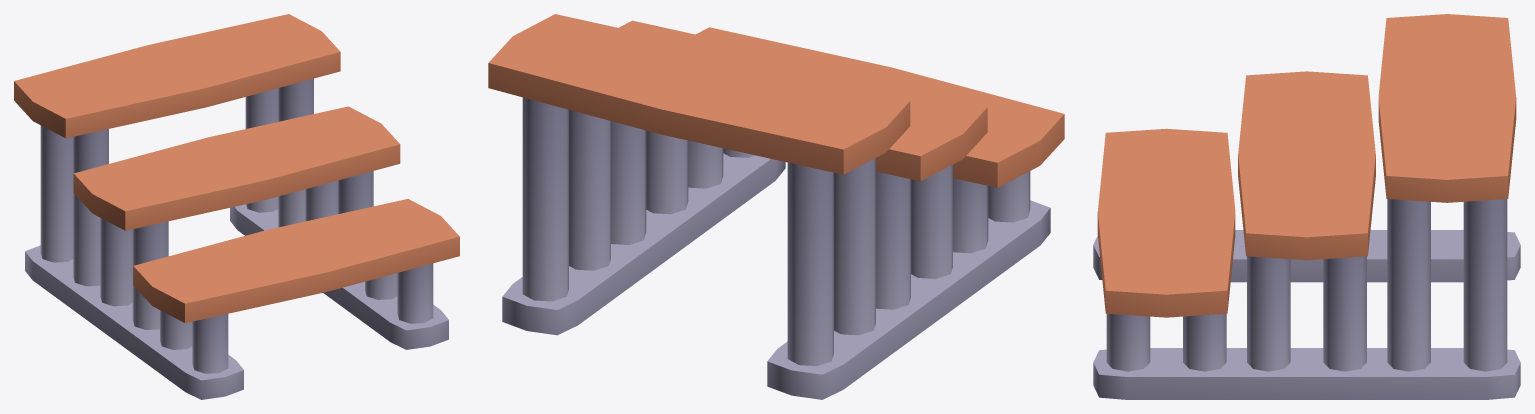
Rendered from benches.glb.
3 renders of one model, left to right at view 1: azimuth 30°, elevation 25°; view 2: azimuth 150°, elevation 25°; view 3: azimuth 270°, elevation 25°, orthographic. The views are drawn at different scales.
Parts seen in each view (by area): view 1: benches; view 2: benches; view 3: benches.
Part boxes in pixels (x1,y1,x2,y2): benches: (14,14,459,399); benches: (488,14,1064,399); benches: (1093,14,1520,399).
Size of the model in its own units: 1 by 0.6451 by 1.09.
Materials: 1 (1 with a texture image).
